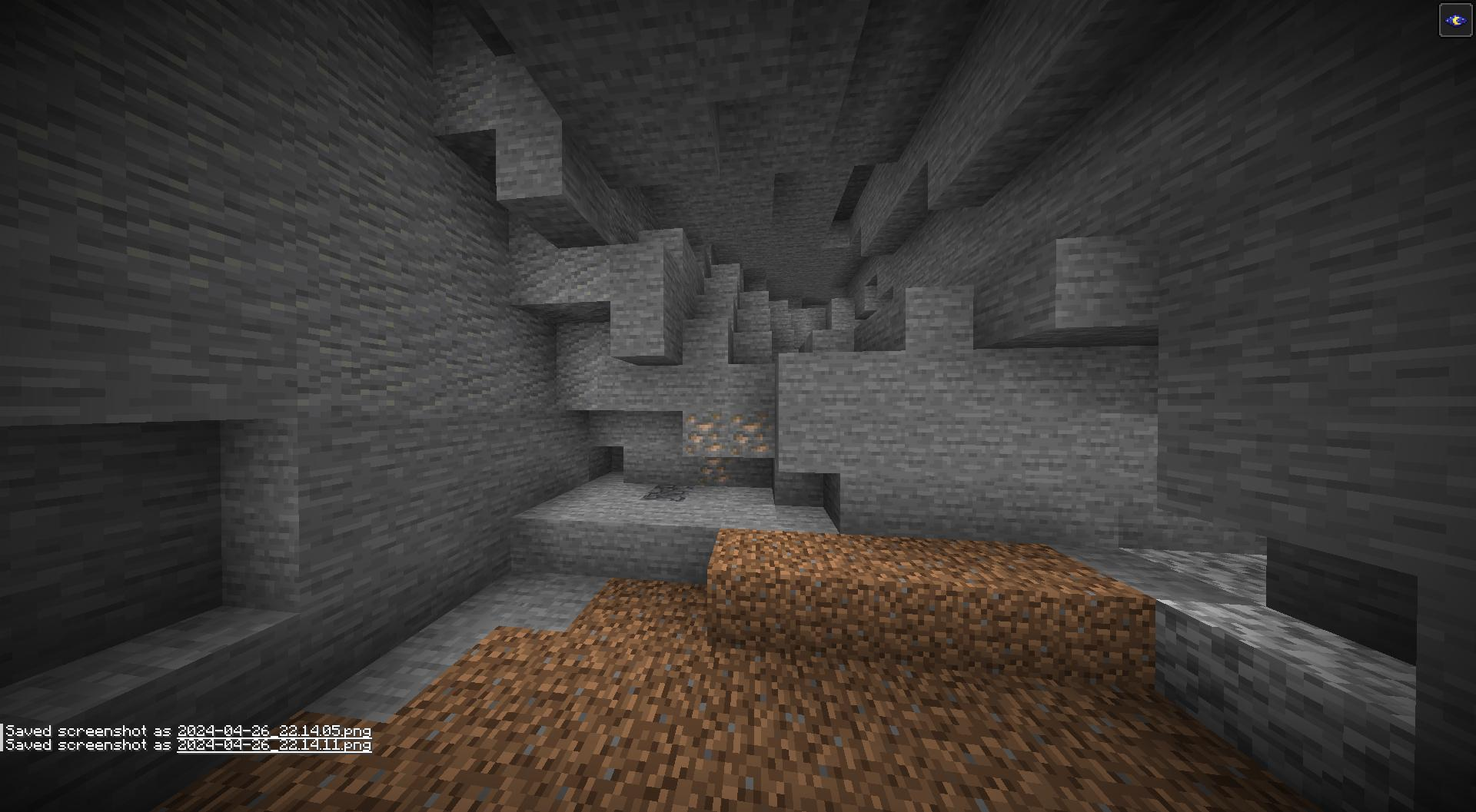iron ore: (724, 410, 774, 458), (682, 413, 726, 458), (696, 452, 727, 489)
